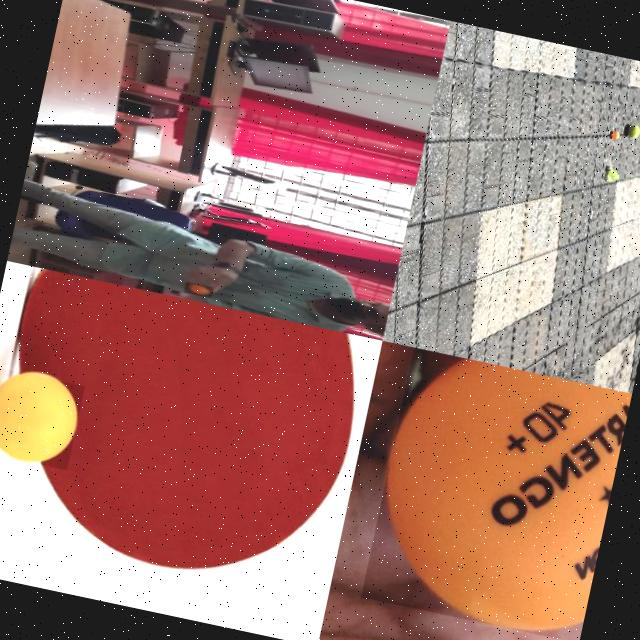ping-pong-ball: (357, 347, 631, 640), (0, 366, 83, 470), (182, 280, 212, 298), (610, 132, 619, 140)
